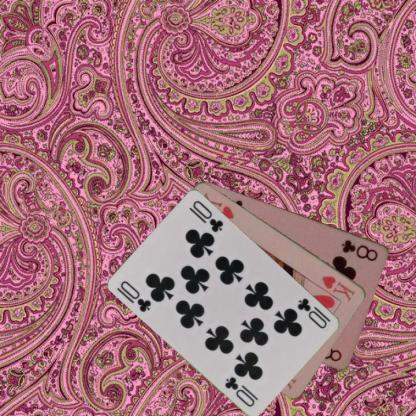10c: (115, 278, 154, 313), (294, 295, 328, 330)
8c: (338, 237, 380, 262)
Kh: (318, 274, 356, 304)
